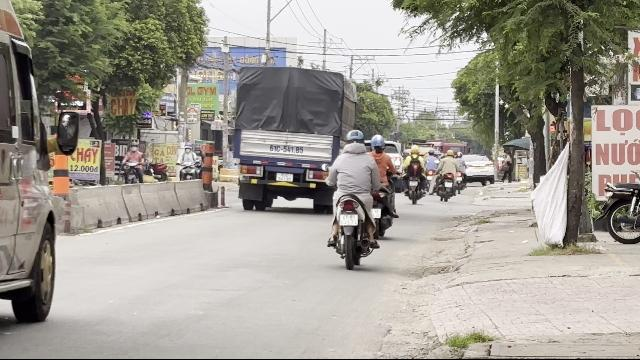helmet: (344, 128, 366, 150)
licenseplate: (340, 215, 358, 226)
motorcyclist: (323, 128, 385, 266)
